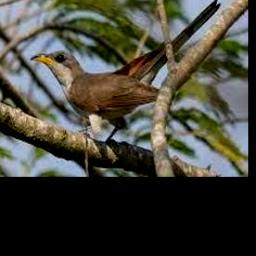Cuckoo: (29, 0, 220, 144)
